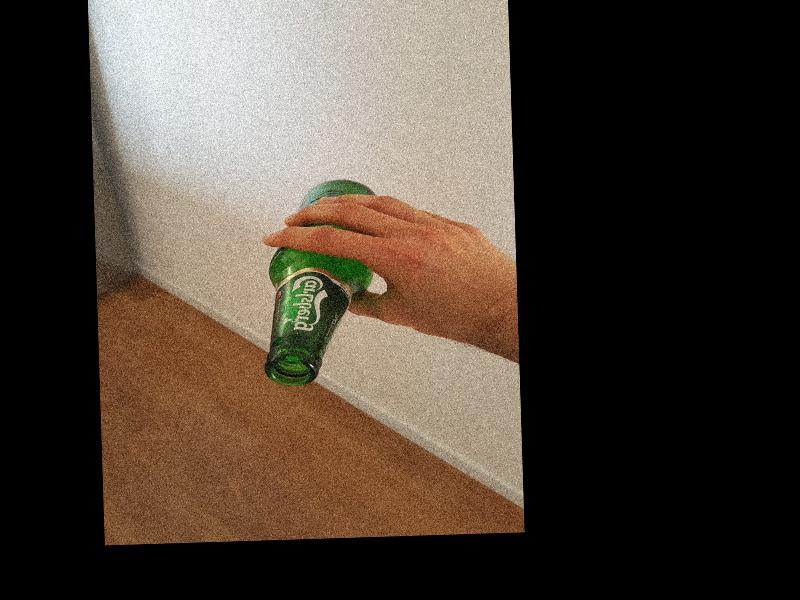Beer: (259, 179, 377, 387)
